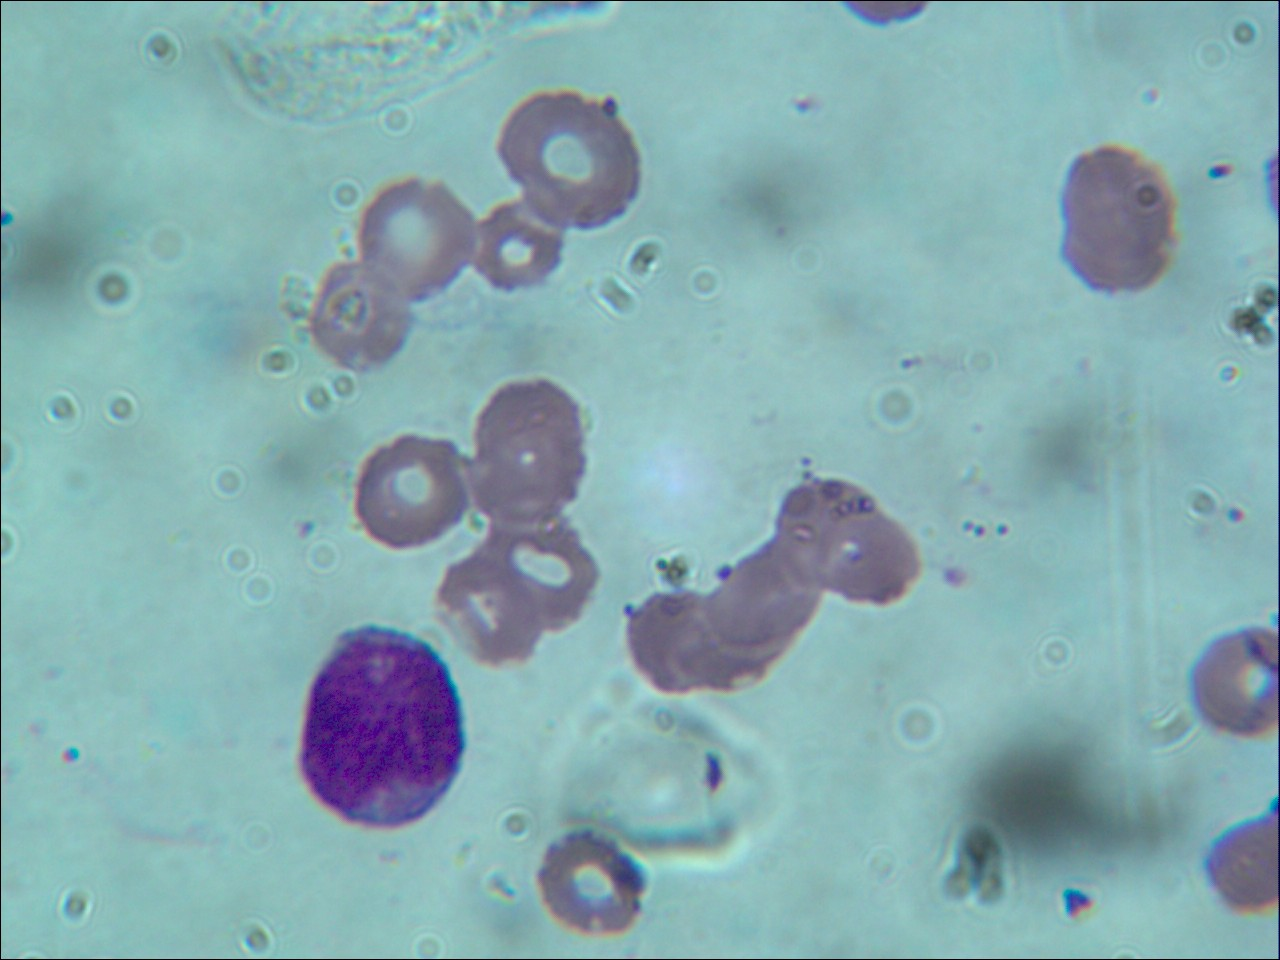Eritrosit: (496, 92, 640, 230), (781, 474, 923, 608), (1058, 144, 1180, 293), (470, 377, 592, 519), (350, 175, 477, 306), (342, 431, 468, 558), (630, 586, 765, 700), (478, 517, 598, 631), (533, 831, 649, 942), (305, 261, 418, 372), (714, 543, 823, 652), (436, 561, 537, 668), (1190, 625, 1280, 740), (468, 197, 570, 289), (1199, 805, 1280, 919)
Limfoblast: (299, 624, 465, 834)
Platelet: (46, 737, 98, 775), (1055, 883, 1102, 924), (614, 593, 650, 628), (937, 555, 970, 594), (698, 750, 727, 790), (1208, 153, 1239, 190), (1221, 500, 1255, 531), (890, 346, 923, 374), (598, 90, 625, 124), (790, 90, 815, 118), (293, 517, 318, 544), (714, 561, 736, 587), (793, 447, 817, 468), (992, 517, 1011, 543), (796, 465, 821, 484), (958, 515, 980, 537), (974, 521, 989, 542)
